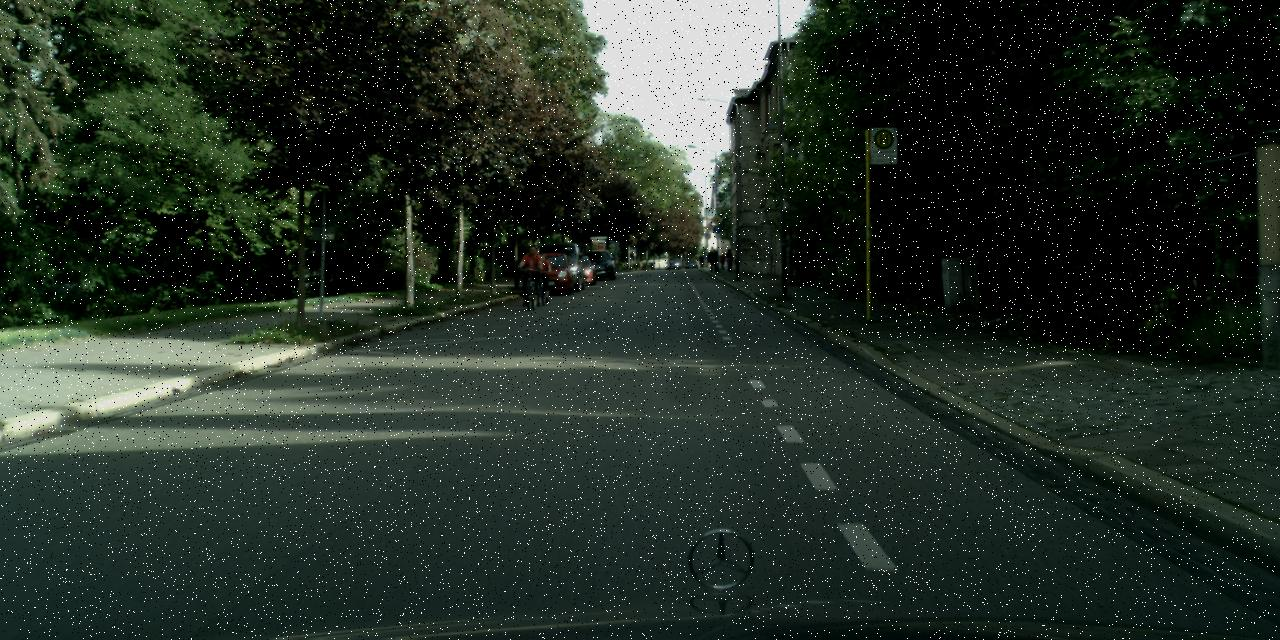ped: (520, 244, 542, 298), (533, 253, 551, 298), (707, 246, 717, 271), (724, 248, 734, 271), (719, 252, 726, 269), (698, 254, 702, 265)
